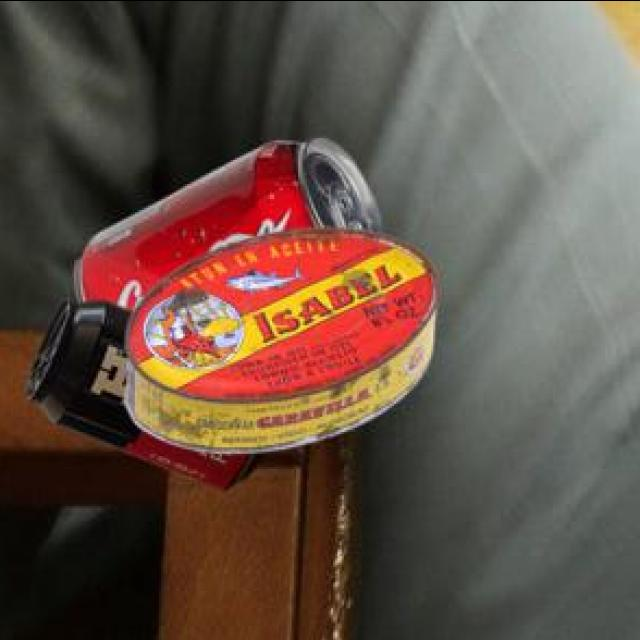logam: (130, 223, 441, 447), (77, 134, 386, 308), (29, 295, 267, 487)
